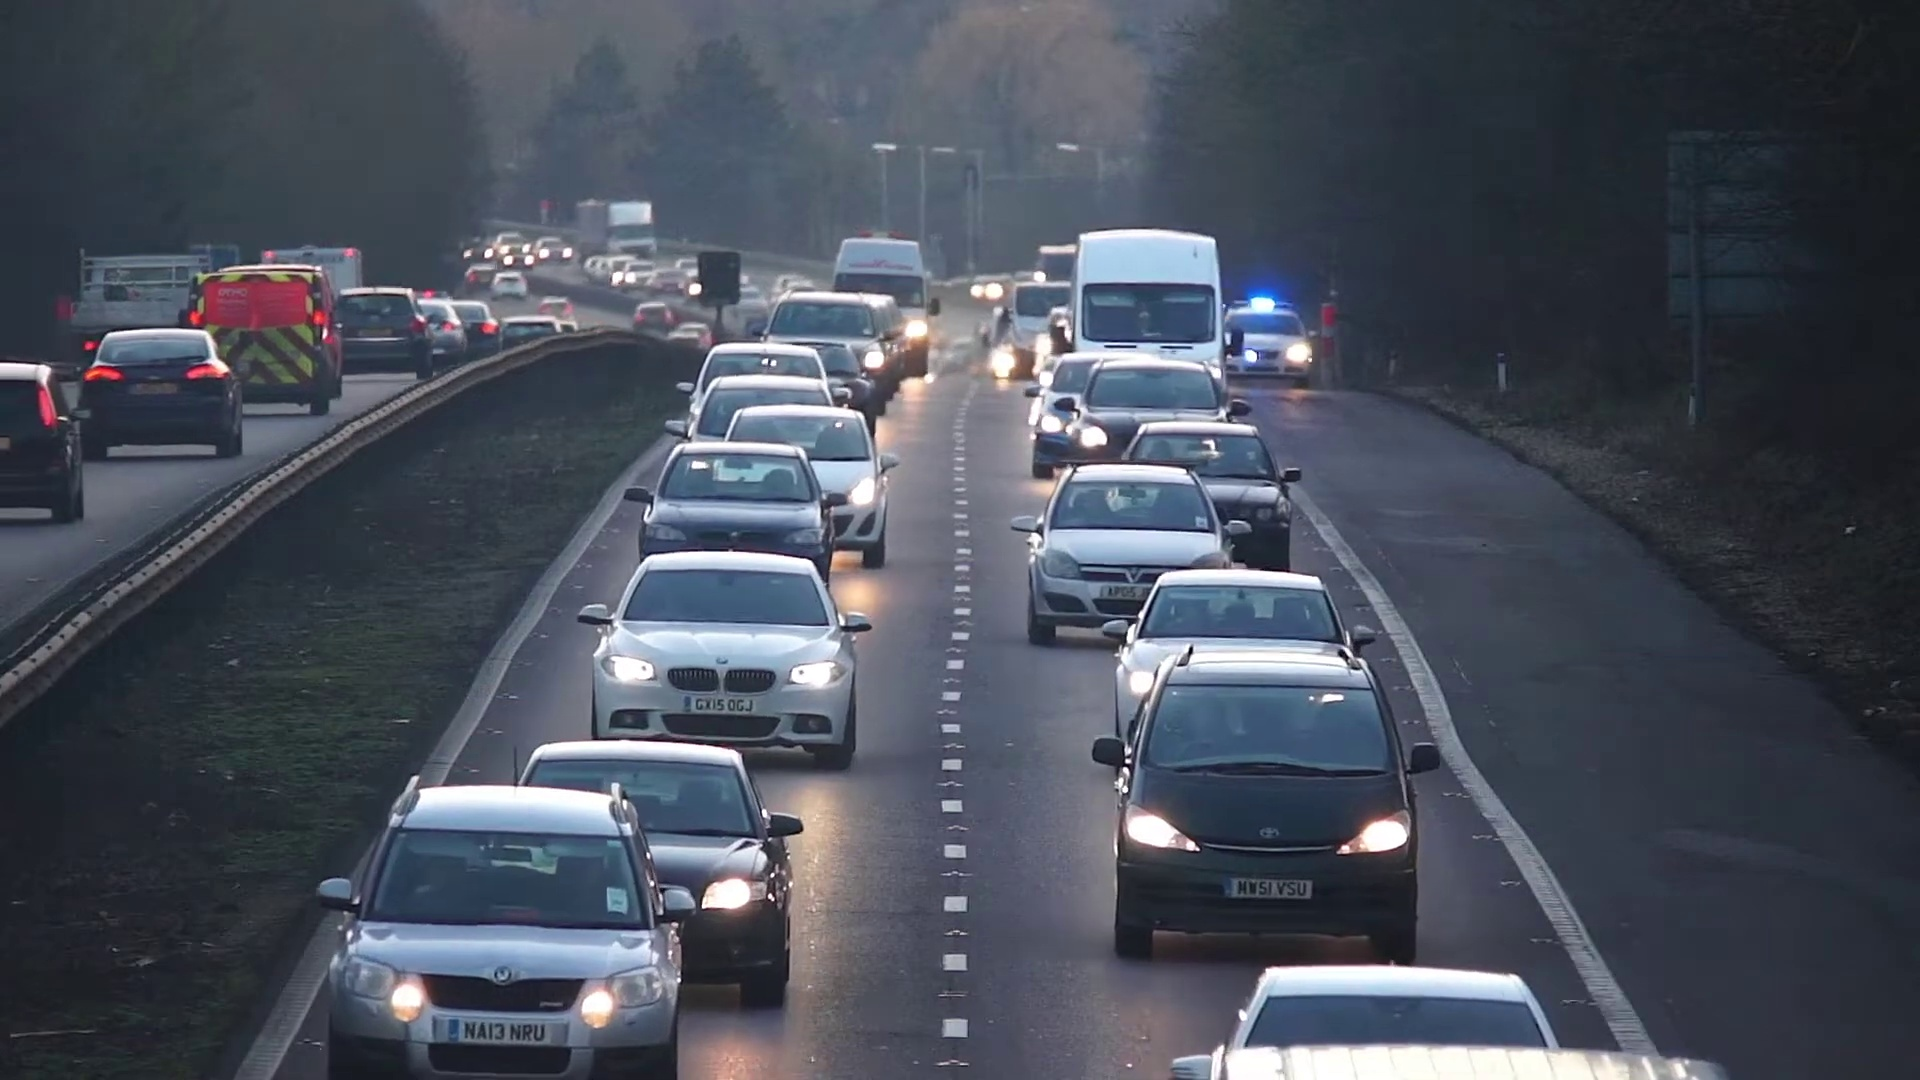license_plate: (446, 1013, 555, 1049), (1225, 877, 1317, 904), (683, 692, 757, 717), (1100, 581, 1150, 599)
